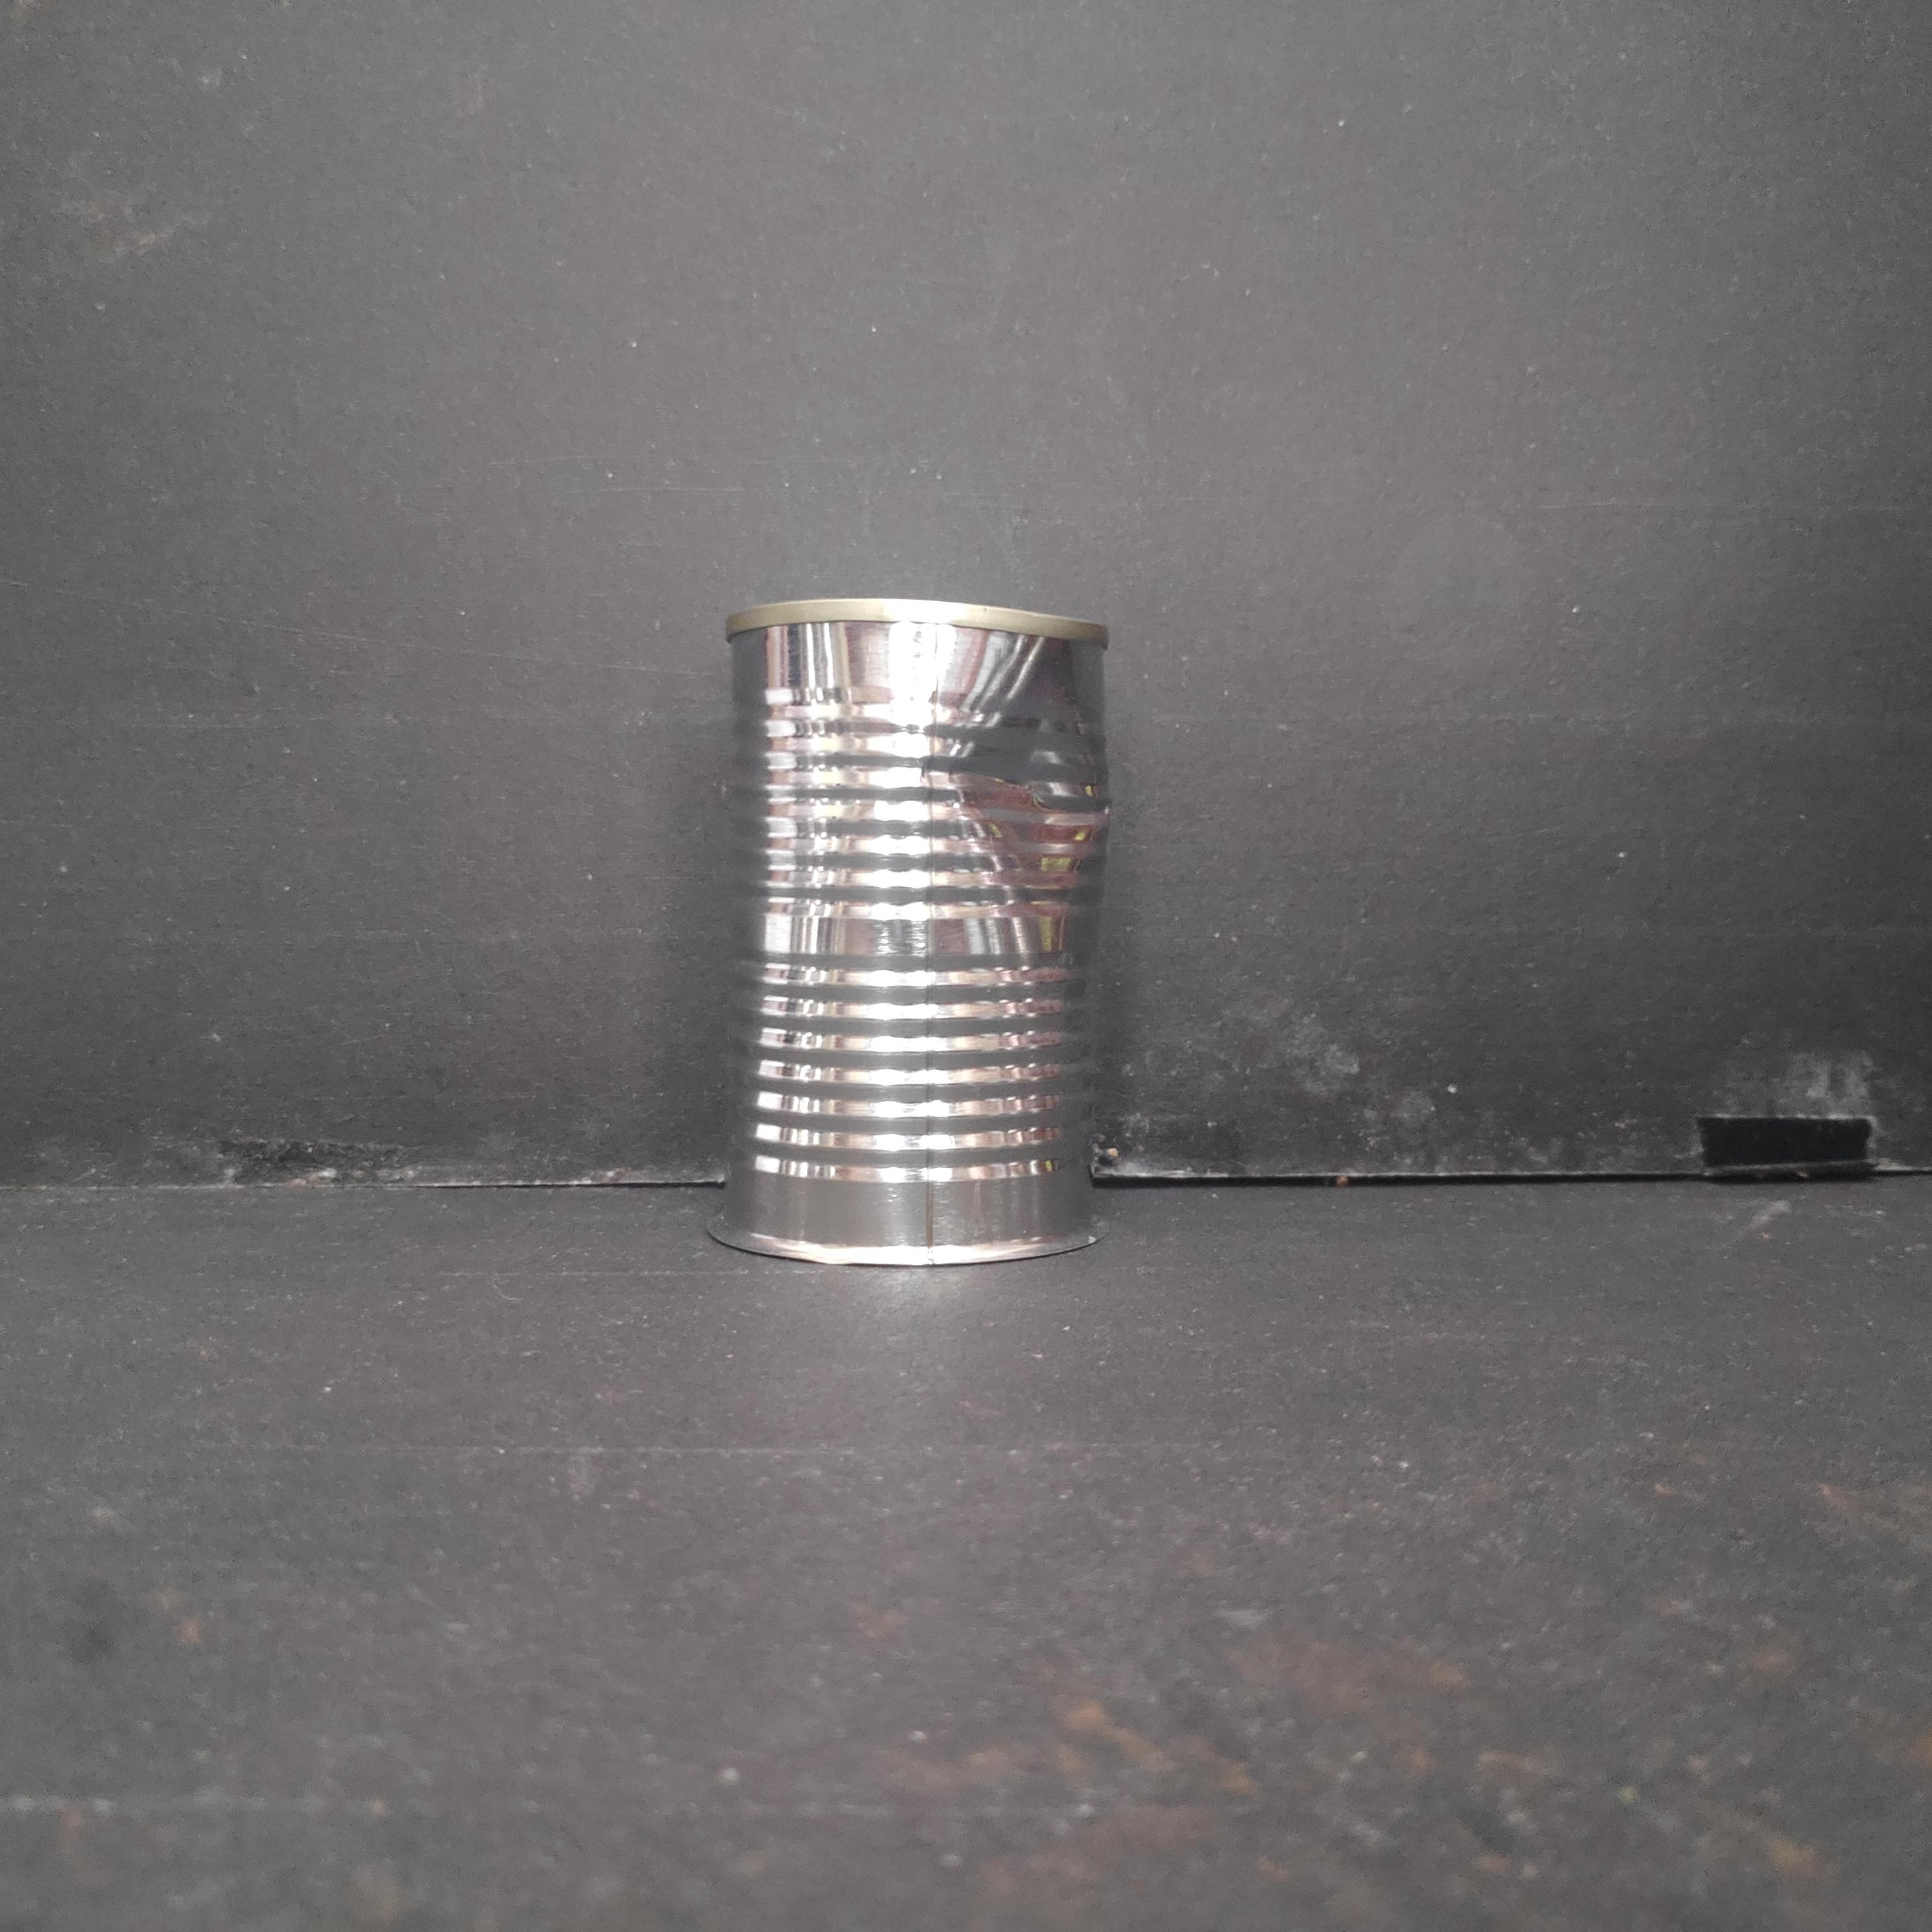Minor Defect: (709, 589, 1122, 1281)
